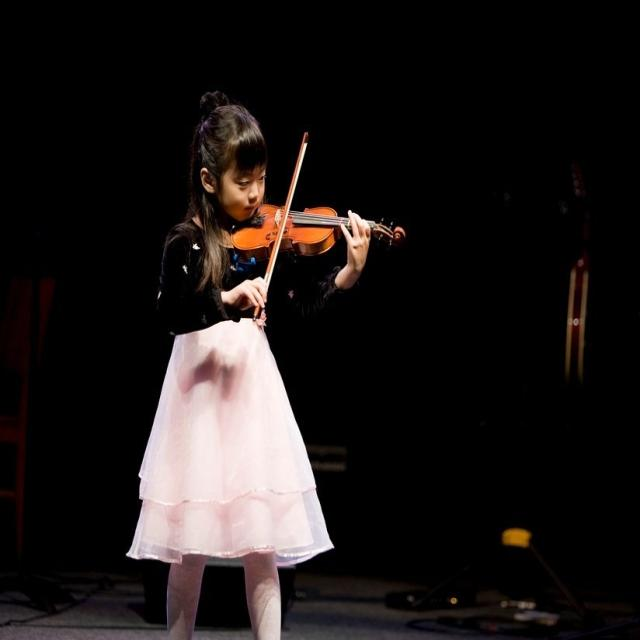violin: (229, 201, 410, 264)
